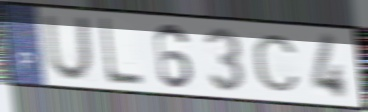3: (203, 25, 246, 94)
4: (309, 32, 349, 103)
6: (152, 21, 195, 91)
C: (250, 32, 303, 94)
L: (98, 16, 145, 88)
U: (42, 13, 94, 83)
